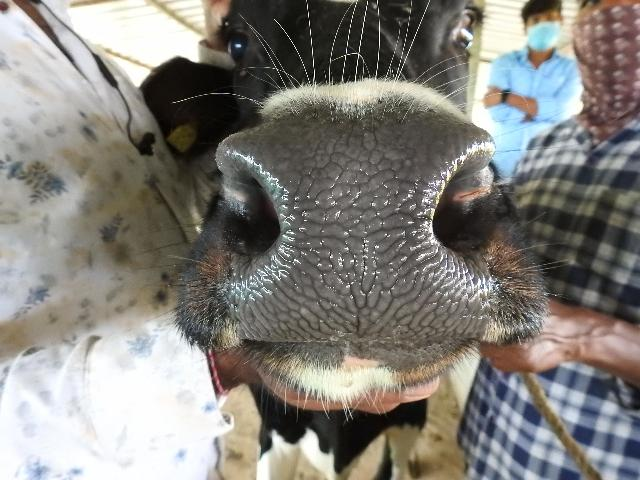Muzzle: (239, 140, 465, 336)
